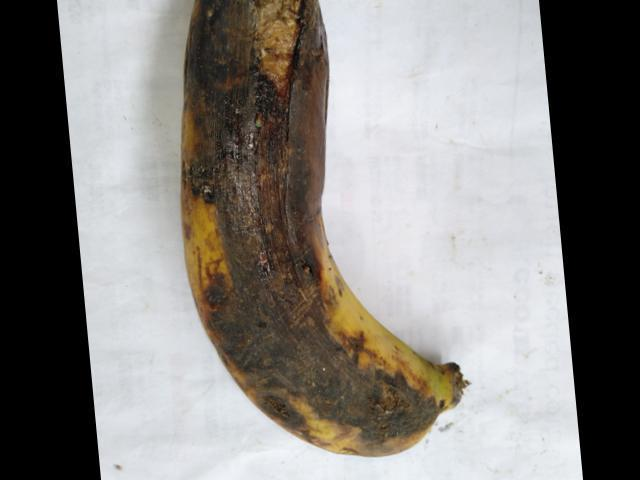rotten: (157, 0, 455, 453)
